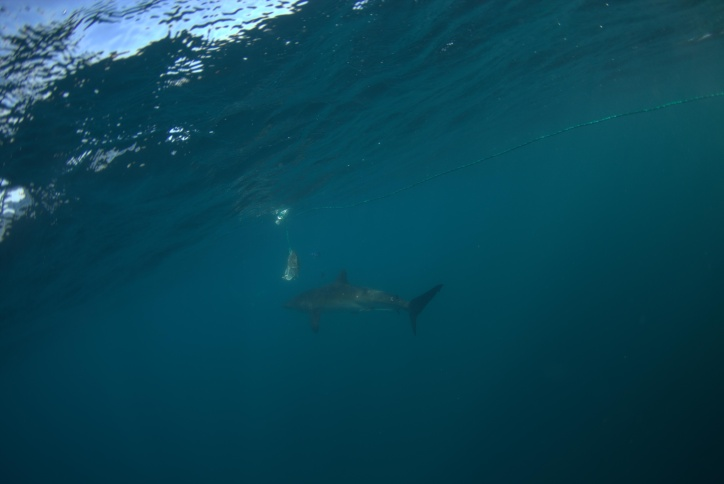Sedoso: (259, 266, 457, 343)
